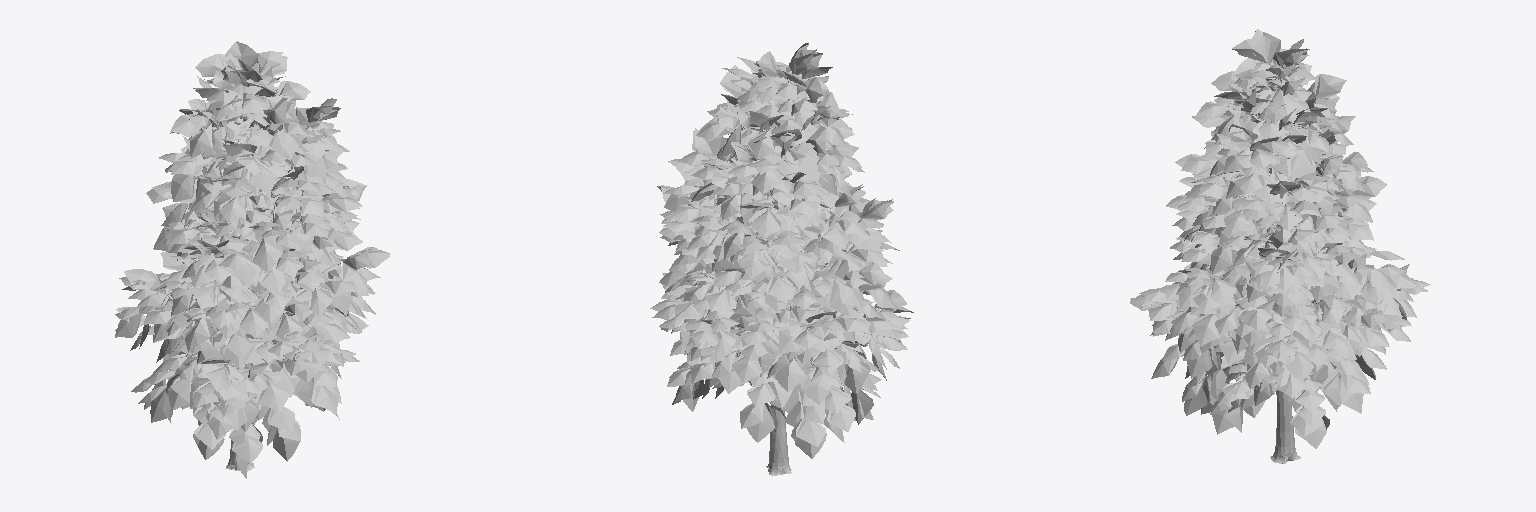
File: tree2.obj
3 renders of one model, left to right at view 1: azimuth 30°, elevation 25°; view 2: azimuth 150°, elevation 25°; view 3: azimuth 270°, elevation 25°, orthographic.
Visible parts, largest first — view 1: Tree; view 2: Tree; view 3: Tree.
Part boxes in pixels (left/top/right/bottom): Tree: left=115, top=41, right=390, bottom=478; Tree: left=650, top=43, right=913, bottom=475; Tree: left=1130, top=29, right=1430, bottom=463.
Bounding box in the file's own units: 4.24 × 7.59 × 4.99.